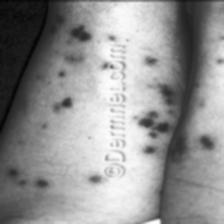Toxin: (142, 108, 172, 159), (172, 131, 216, 157), (6, 169, 49, 193), (34, 65, 74, 84), (154, 77, 176, 105), (140, 48, 162, 70), (68, 23, 90, 44), (215, 29, 224, 77), (50, 97, 75, 113), (50, 12, 63, 30), (91, 174, 103, 186), (39, 122, 49, 130)
